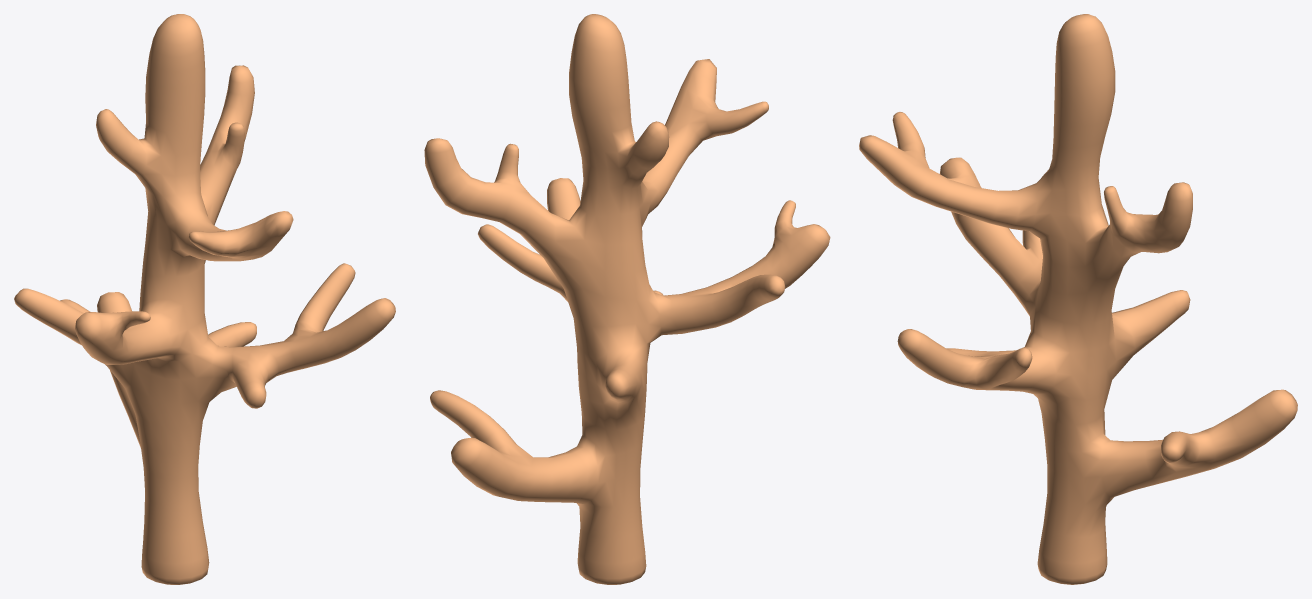
Rendered from Coral_A_02.fbx.
3 views of the same model, side by side, from view 1: azimuth 30°, elevation 25°; view 2: azimuth 150°, elevation 25°; view 3: azimuth 270°, elevation 25° (orthographic). The views are drawn at different scales.
Visible parts, largest first — view 1: Coral_A_02_LOD0; view 2: Coral_A_02_LOD0; view 3: Coral_A_02_LOD0.
Boxes of the visible parts, x1,y1,x2,y2 form: Coral_A_02_LOD0: (14, 14, 395, 584); Coral_A_02_LOD0: (424, 14, 830, 584); Coral_A_02_LOD0: (859, 14, 1297, 584).
Size of what is drawn, in the model's own units: 600 by 985 by 697.
